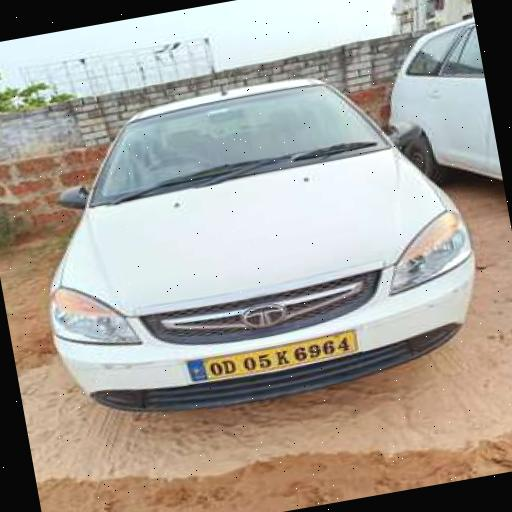license_plate`: (186, 327, 357, 382)
